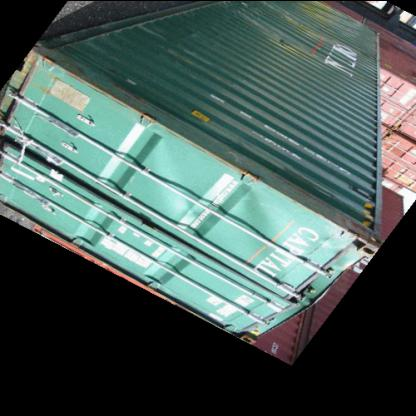Damage: (224, 191, 365, 352)
